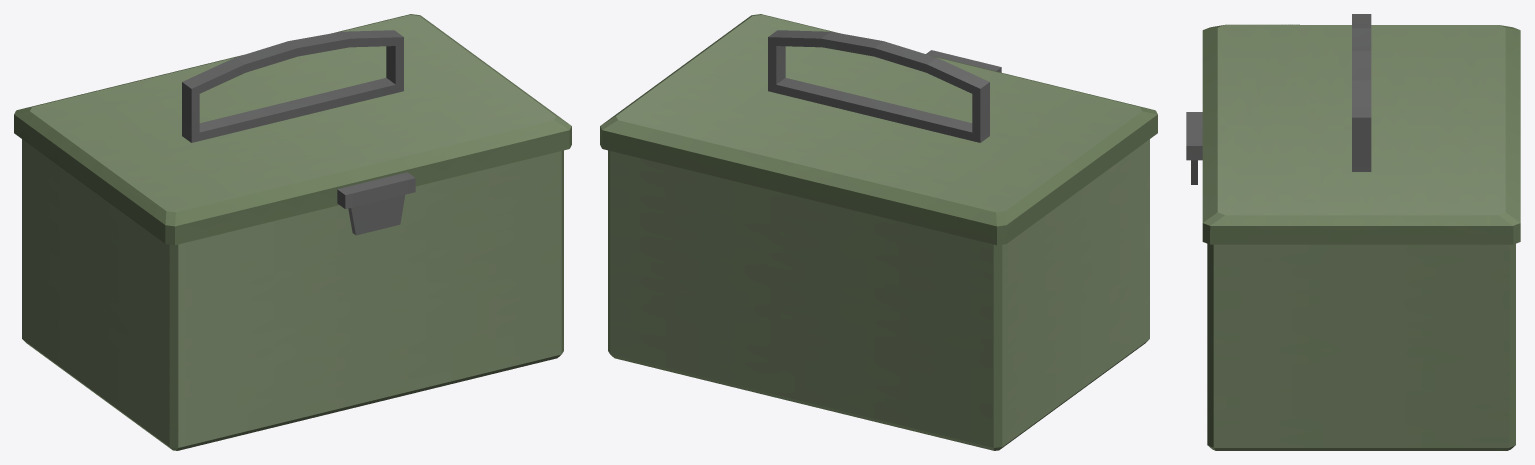
Rendered from toolbox_1.glb.
3 views of the same model, side by side, from view 1: azimuth 30°, elevation 25°; view 2: azimuth 150°, elevation 25°; view 3: azimuth 270°, elevation 25° (orthographic).
Visible parts, largest first — view 1: box, cover; view 2: box, cover; view 3: cover, box.
Boxes of the visible parts, <box> form: box: <box>22,139,563,450</box>; cover: <box>14,14,571,245</box>; box: <box>608,139,1149,450</box>; cover: <box>600,14,1157,245</box>; cover: <box>1186,14,1520,244</box>; box: <box>1207,244,1515,450</box>.
Size of the model in its own units: 0.3916 by 0.2812 by 0.2784.
1 material, 1 textured.
